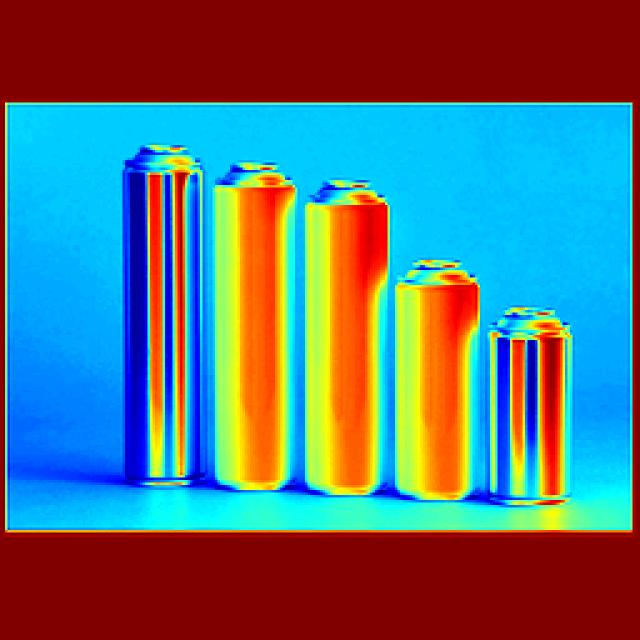Aerosol Cans: (211, 161, 298, 493)
